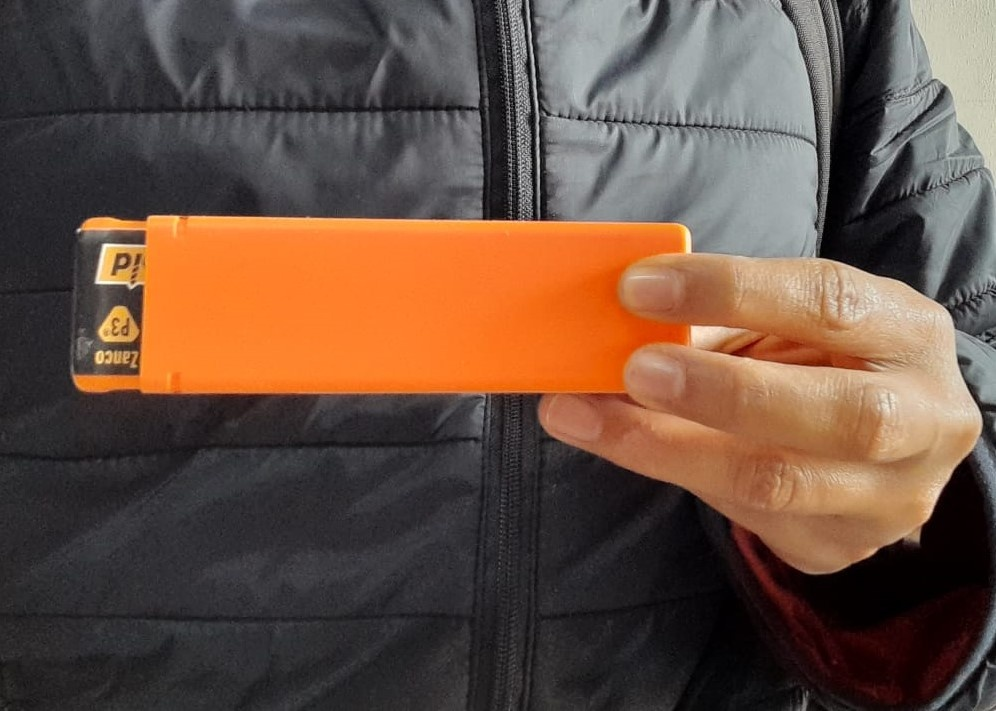Plastico: (70, 216, 692, 396)
